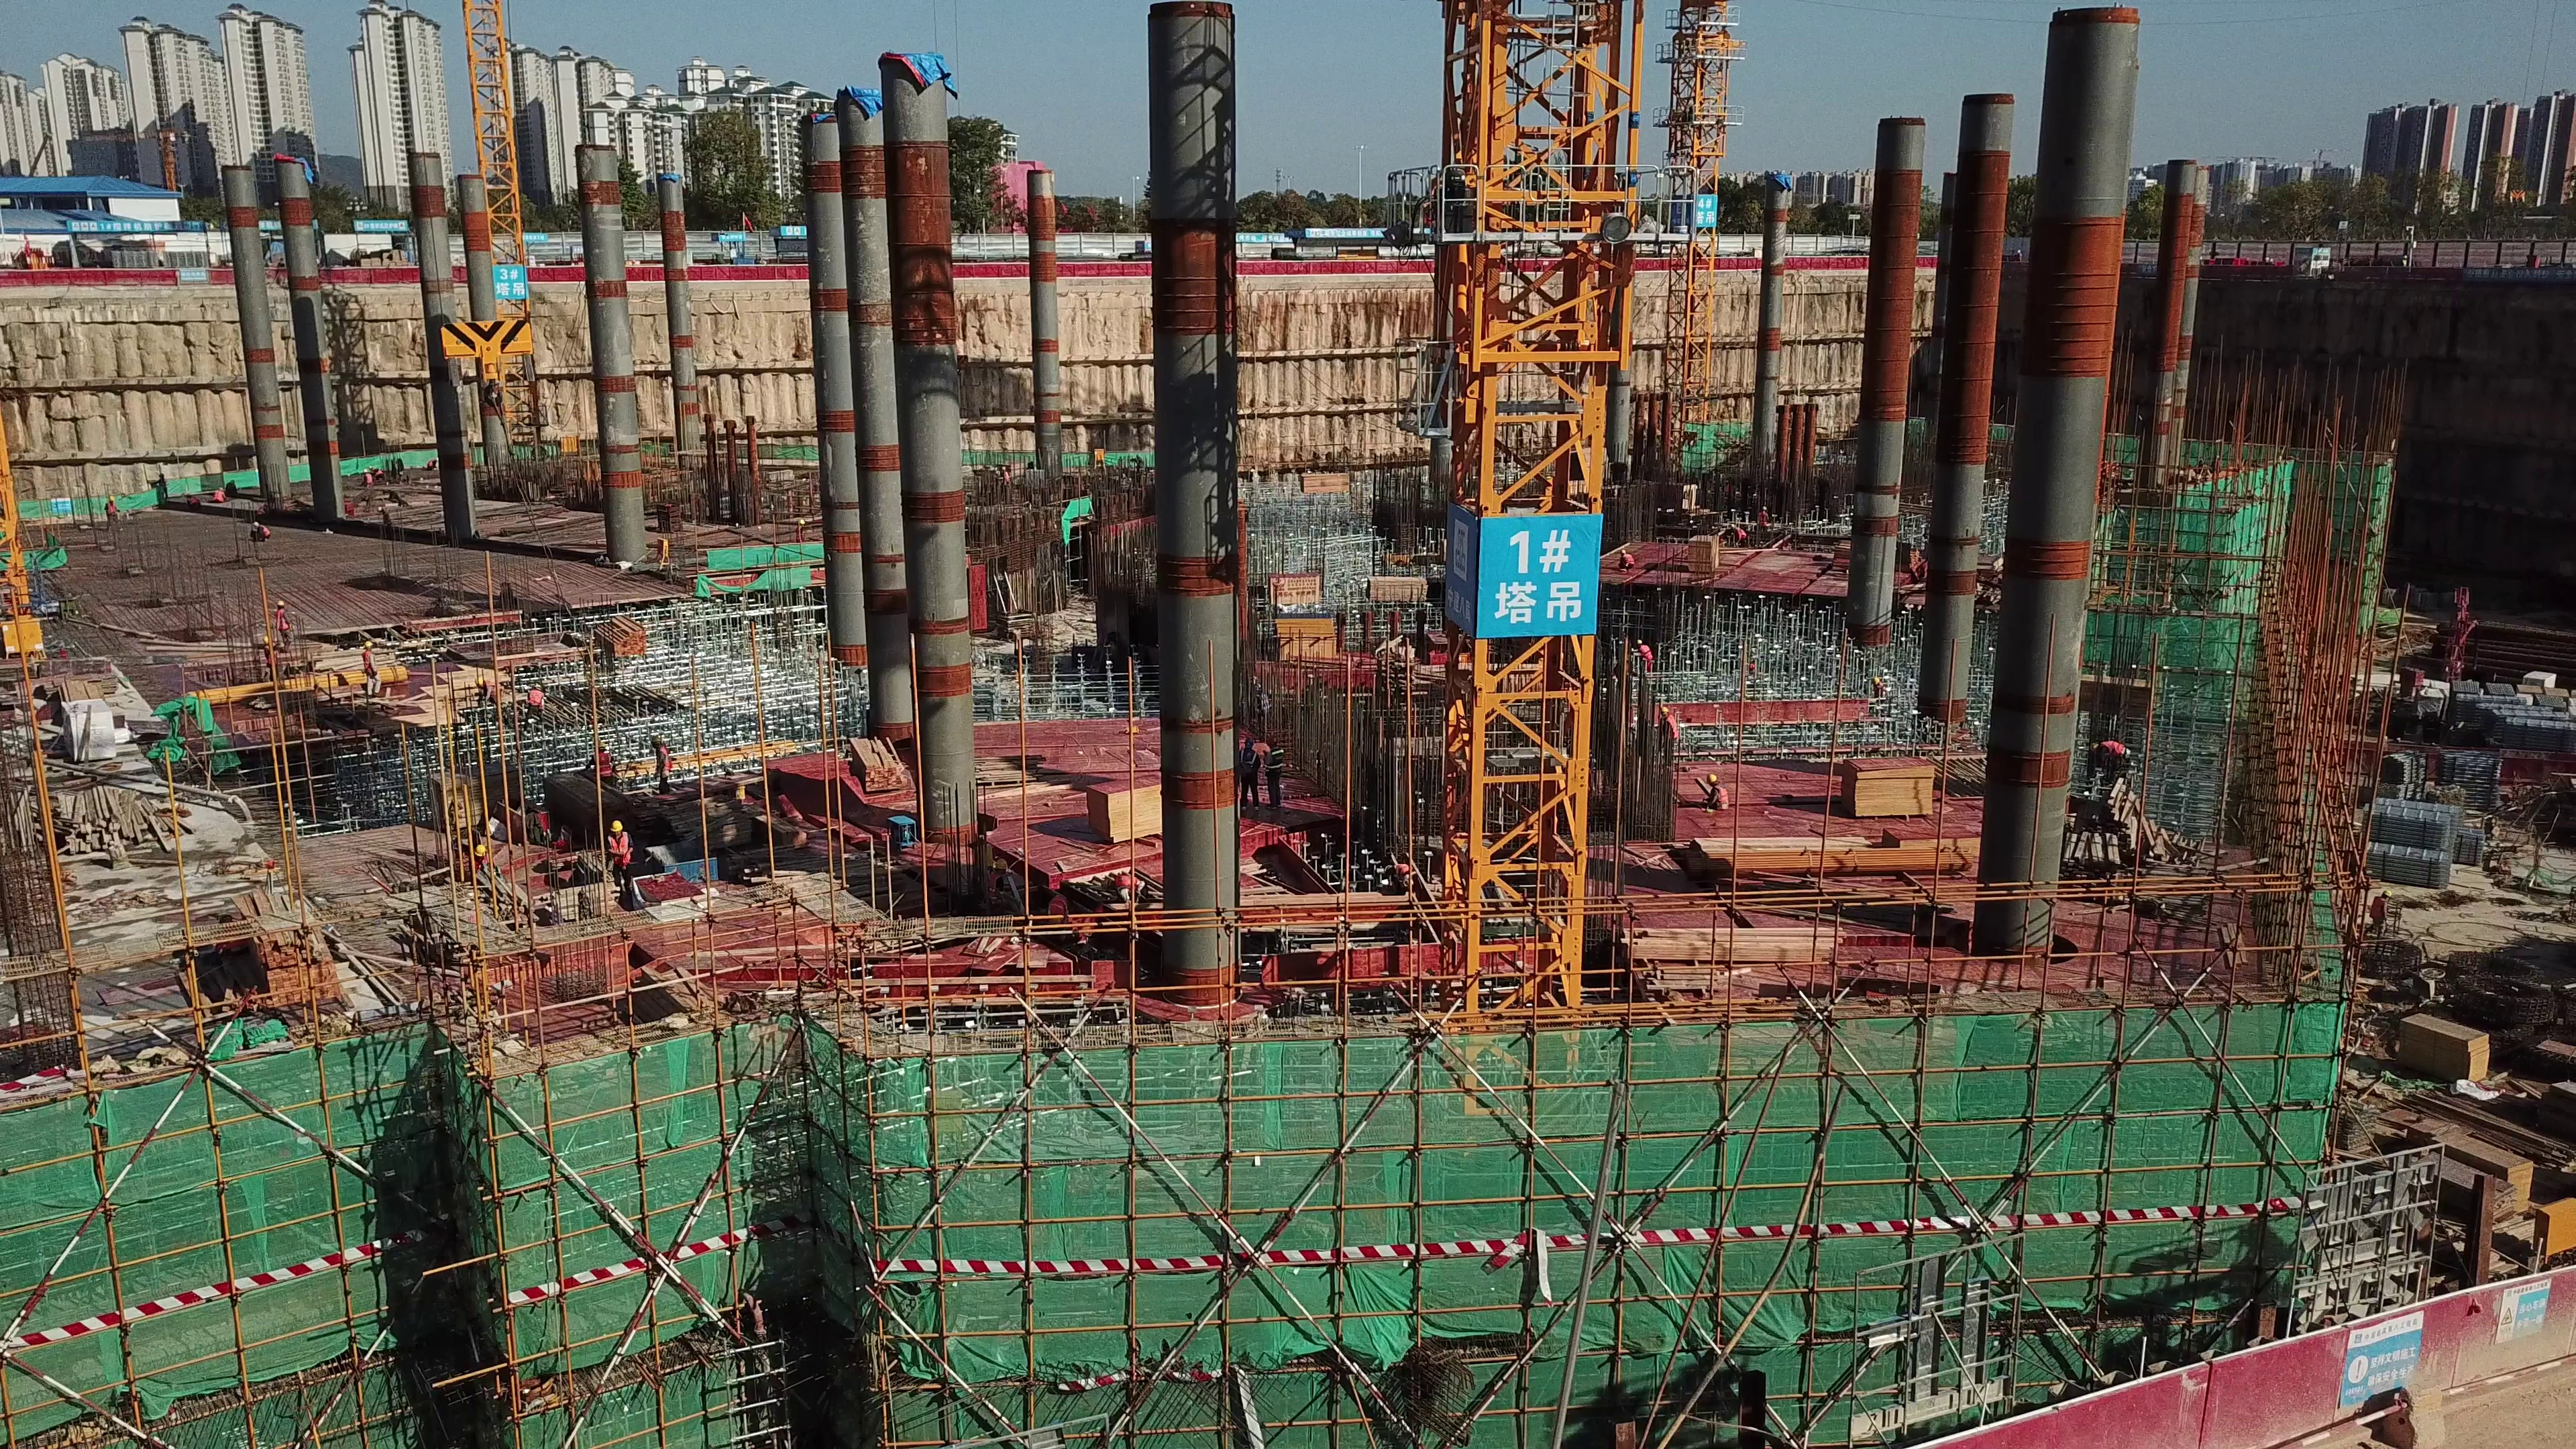board: (1840, 747, 1945, 833), (1073, 777, 1169, 847)
hook: (420, 319, 545, 386)
person: (598, 814, 641, 888), (2097, 724, 2132, 800)
scaffold: (542, 645, 834, 751)
wood: (5, 792, 201, 864), (849, 745, 904, 806)
